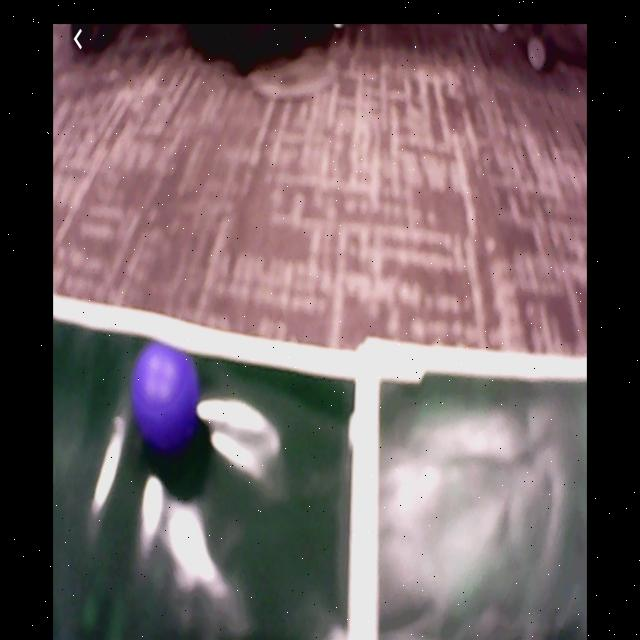ball: (132, 340, 194, 442)
